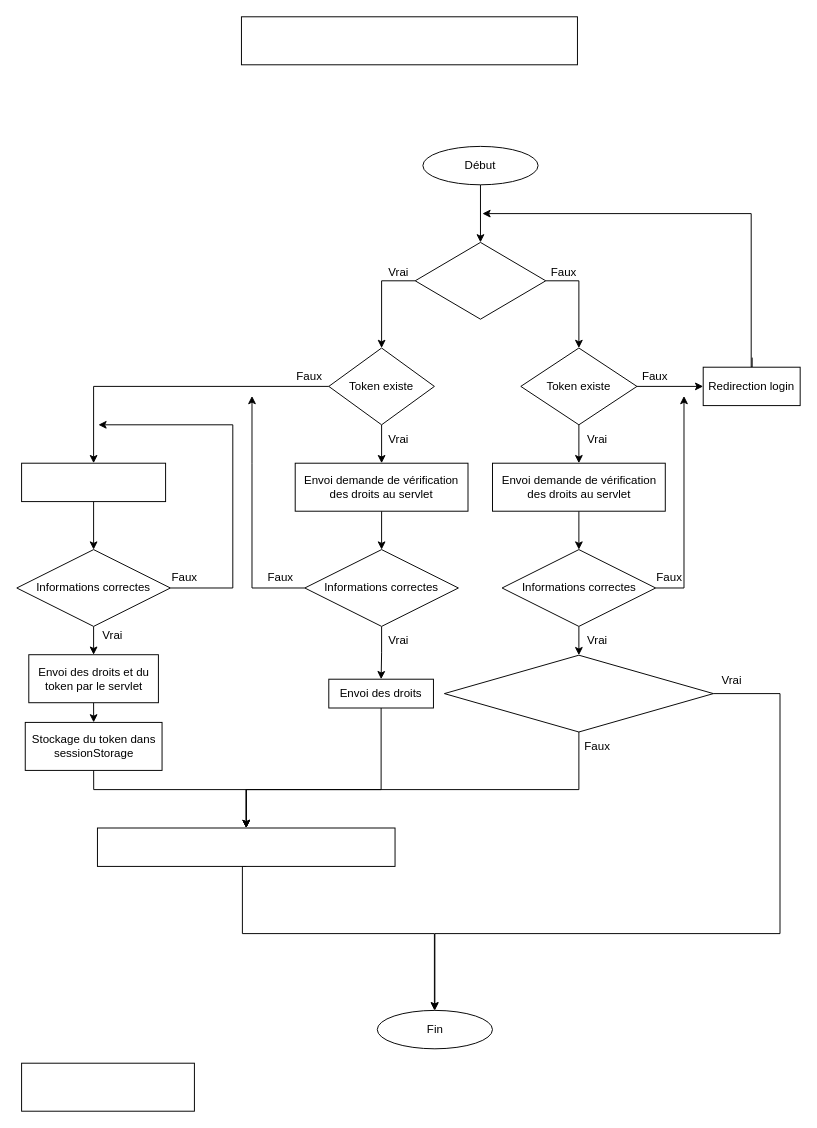
The diagram is 817 pixels wide and 1128 high, and some of its shapes have lost their labels. Here are the shapes that lost their labels. From the top down, the box of each, then its label:
(240, 16, 577, 65): Ordinogramme script JS authentification
(414, 241, 546, 319): Page login
(21, 462, 166, 502): Demande login + MDP et envoi au servlet
(443, 654, 713, 732): l'utilisateur a le droit d'être sur cette page
(96, 827, 395, 866): Redirection sur la page par défaut selon les droits
(21, 1062, 194, 1111): Auteur : Maxime VALLET Version : 1.0
